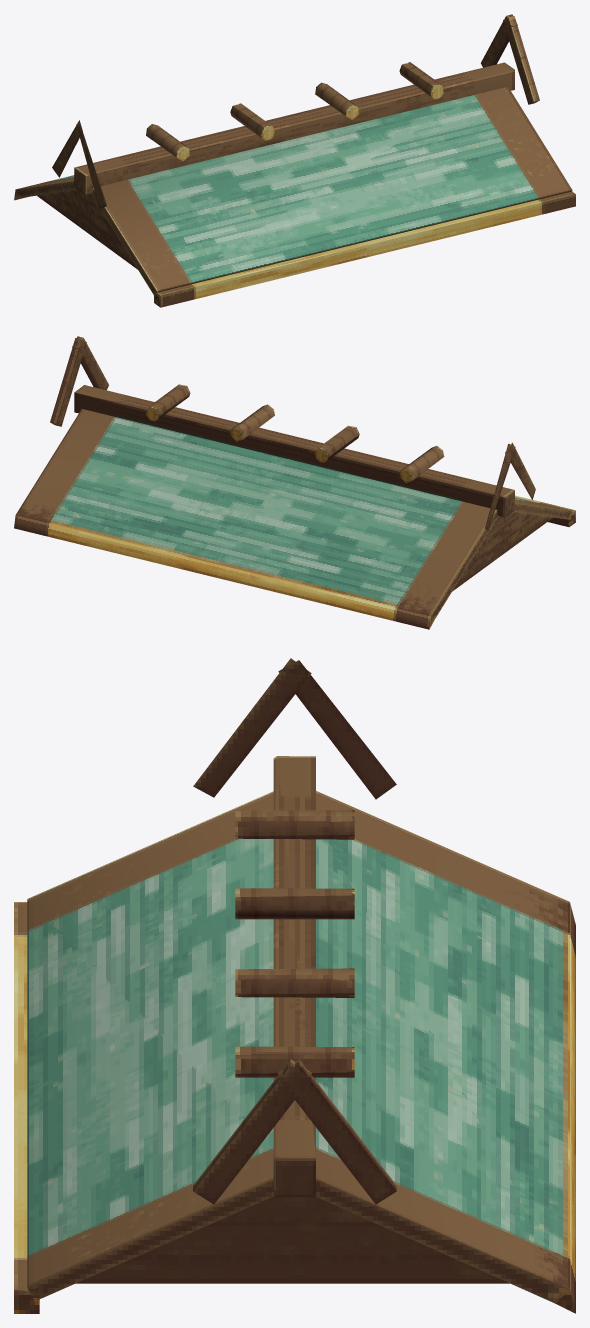
Rendered from shrine_roof_own.glb.
3 views of the same model, one above another, from view 1: azimuth 30°, elevation 25°; view 2: azimuth 150°, elevation 25°; view 3: azimuth 270°, elevation 25° (orthographic). The views are drawn at different scales.
Visible parts, largest first — view 1: mesh; view 2: mesh; view 3: mesh.
Part boxes in pixels (<box>): mesh: <box>14,14,575,307</box>; mesh: <box>14,336,575,629</box>; mesh: <box>14,658,575,1313</box>.
Bounding box in the file's own units: 1.13 × 0.3361 × 0.6609.
Materials: 1 (1 with a texture image).
